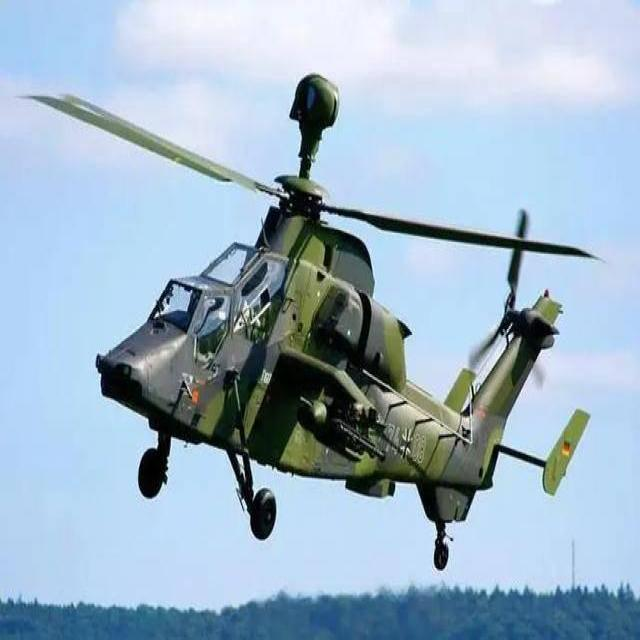MIL_HELO: (29, 40, 612, 568)
